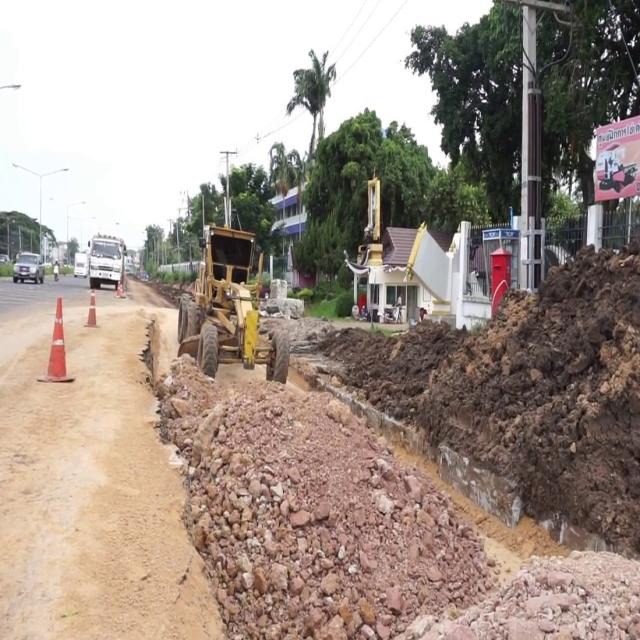buldozerpayloadergrader: (175, 225, 290, 388)
